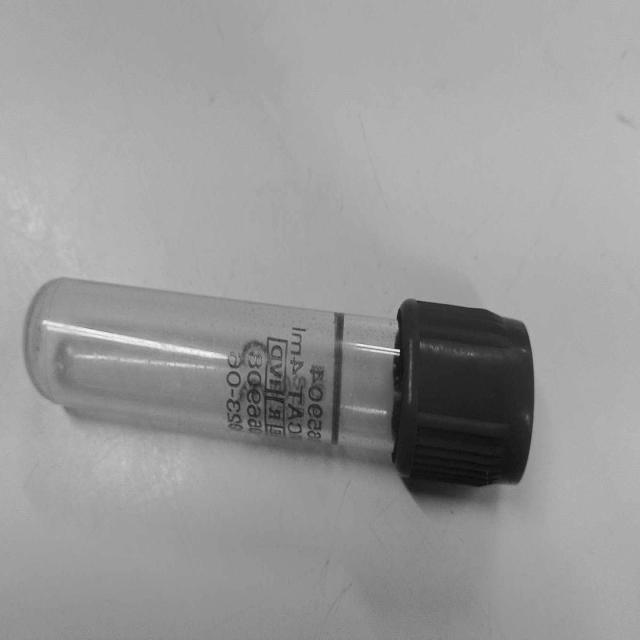General: (222, 324, 336, 447)
Sharps: (23, 274, 537, 488)
